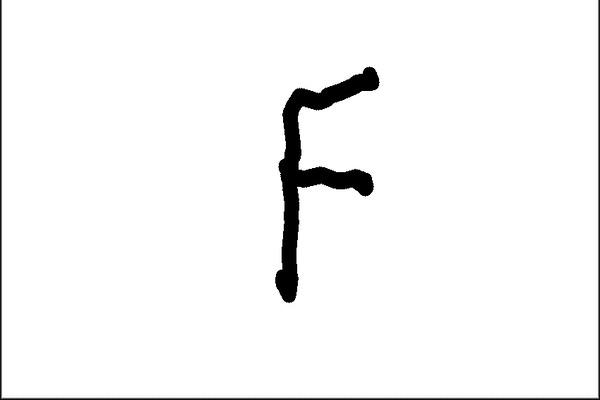F: (271, 62, 383, 305)
